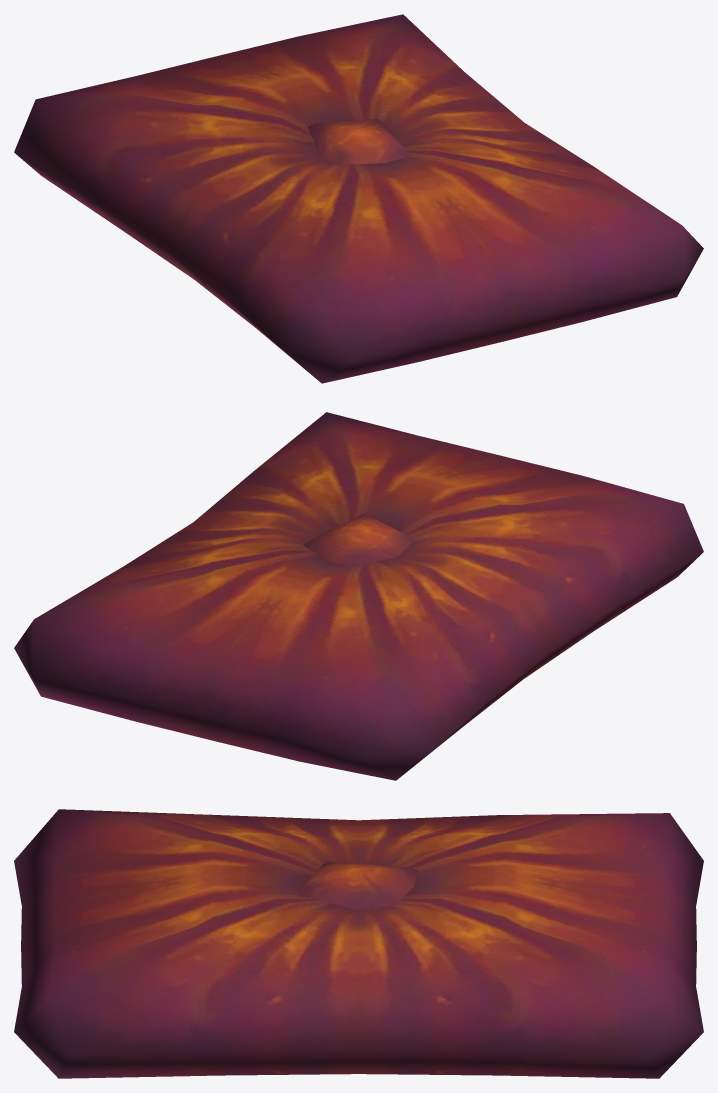
3 renders of one model, top to bottom at view 1: azimuth 30°, elevation 25°; view 2: azimuth 150°, elevation 25°; view 3: azimuth 270°, elevation 25°, orthographic. The views are drawn at different scales.
Bounding box in the file's own units: 1.62 × 0.542 × 2.17.
1 material, 1 textured.
